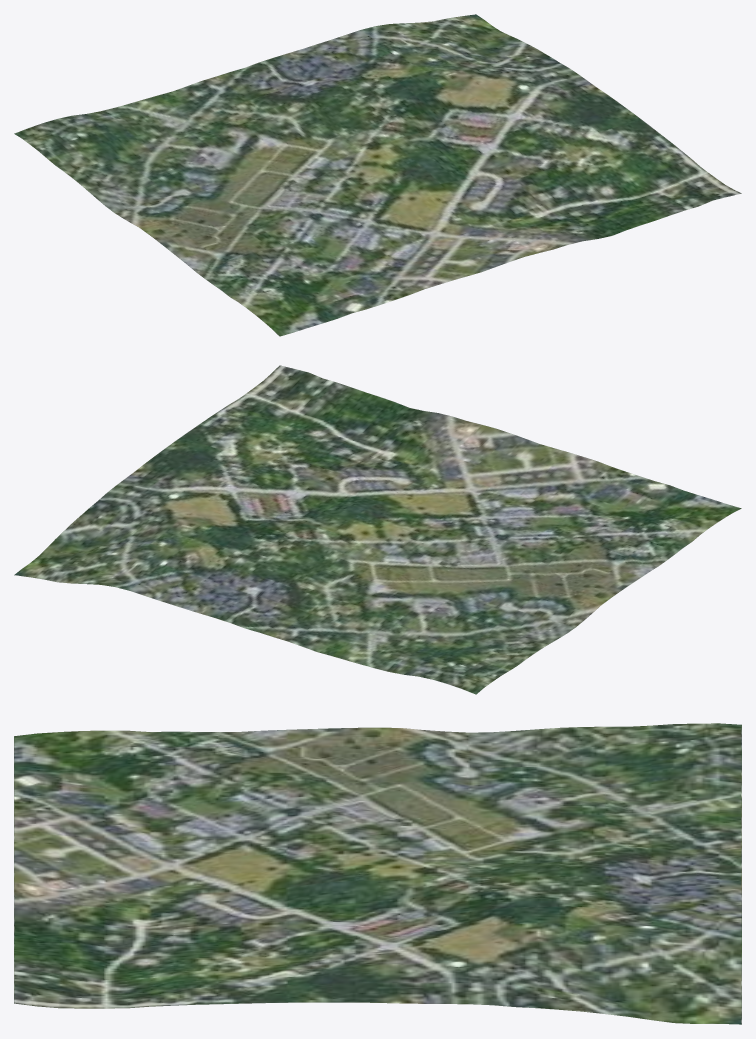
3 renders of one model, top to bottom at view 1: azimuth 30°, elevation 25°; view 2: azimuth 150°, elevation 25°; view 3: azimuth 270°, elevation 25°, orthographic. The views are drawn at different scales.
Size of the model in its own units: 975 by 67.65 by 971.
Materials: 1 (1 with a texture image).
